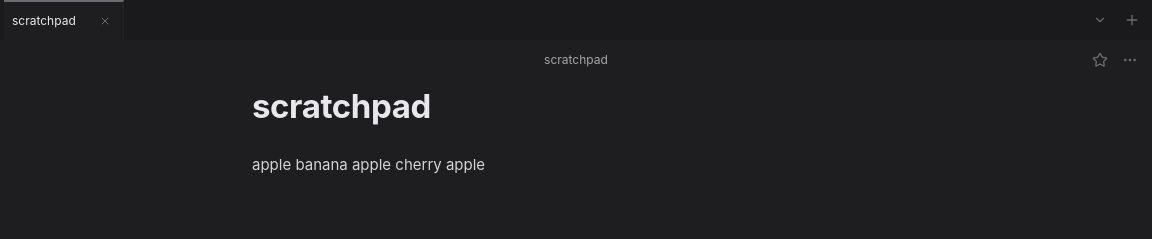
Test case: LeafPane + real EditorPane/MarkdownEditor — Find highlight clears on dismiss › the close button clears .cm-jasper-search-match to zero
Press f in the field with class "cm-content", box [252,155,485,174]
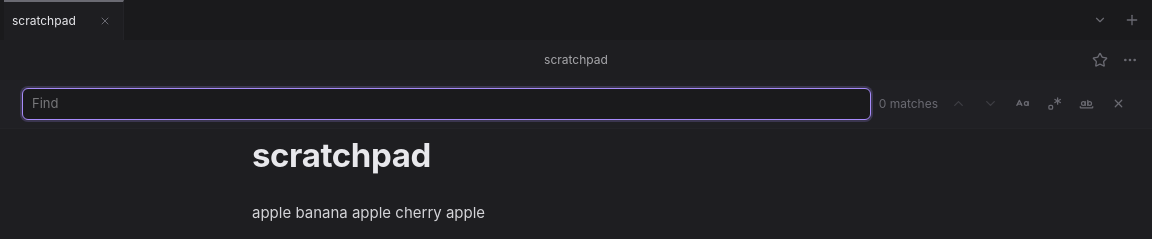
Type "apple" into the field with placeholder "Find" at (446, 104), box [22,88,871,120]
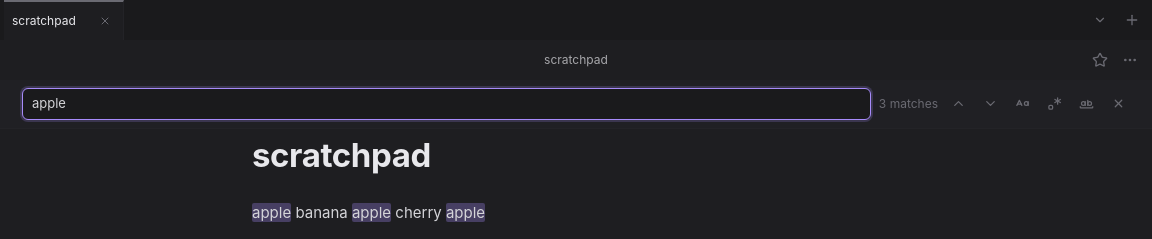
Expected: the number of text boxes with class "cm-jasper-search-match" is 3, [252,203,291,222]; [352,203,391,222]; [446,203,485,222]
Click the button named "Close find bar" at (1118, 104), box [1106,92,1130,116]
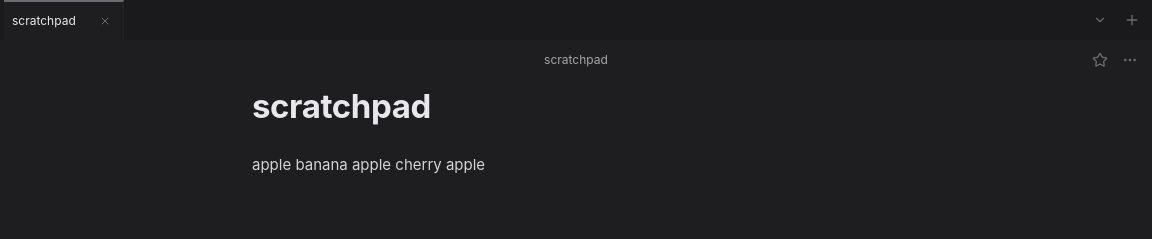
Expected: the element with test id "find-bar" is gone
Expected: no text boxes with class "cm-jasper-search-match" are shown
